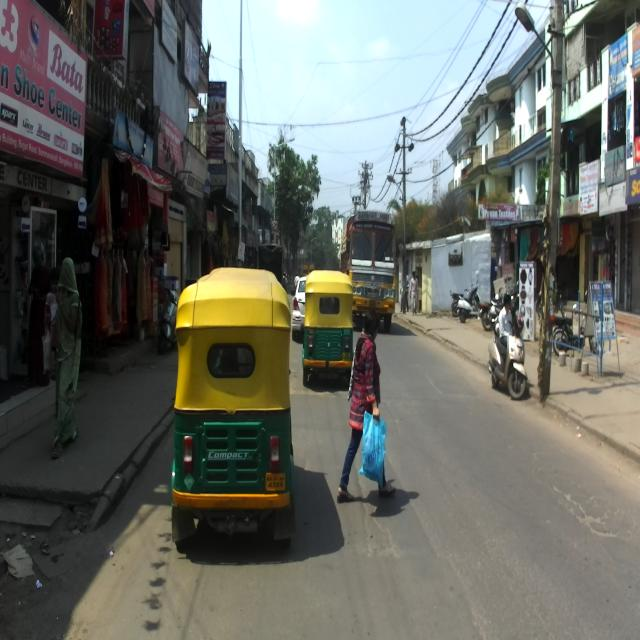auto ahead at: (167, 273, 301, 548), (309, 270, 355, 378)
electric pole ahead at: (536, 0, 564, 411)
person ahead at: (344, 313, 386, 519), (48, 254, 89, 454)
truck ahead at: (347, 210, 401, 318)
